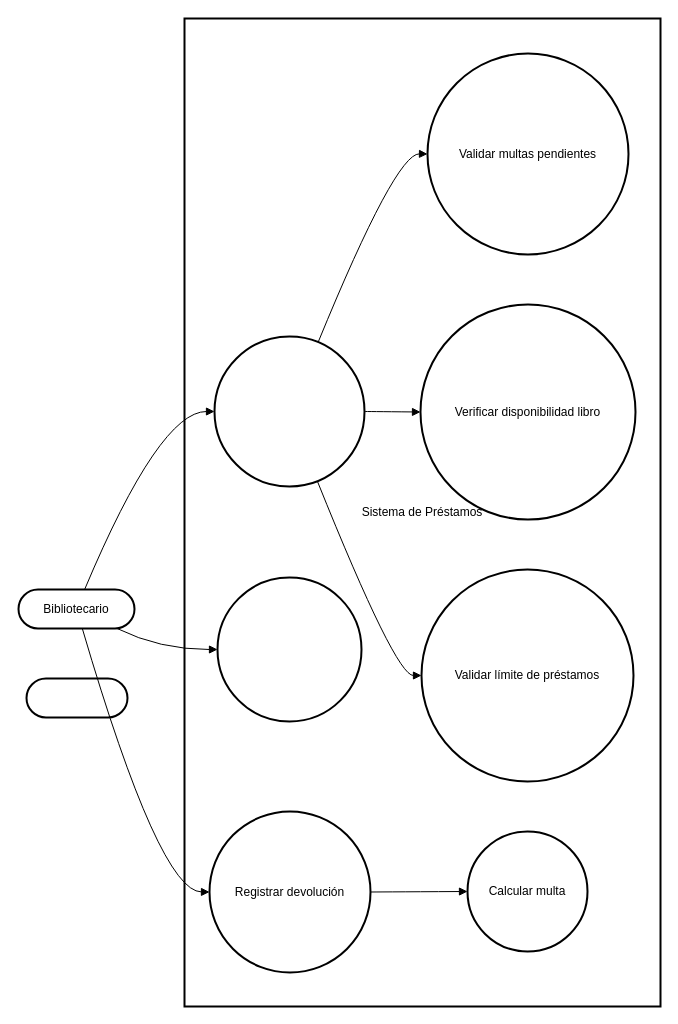
Image size: 678x1024. Some labels were removed from this diagram. The centre of each missing label's shape, as x and y in pixels:
Estudiante: (x=76, y=697)
Registrar préstamo: (x=289, y=411)
Renovar préstamo: (x=289, y=649)
